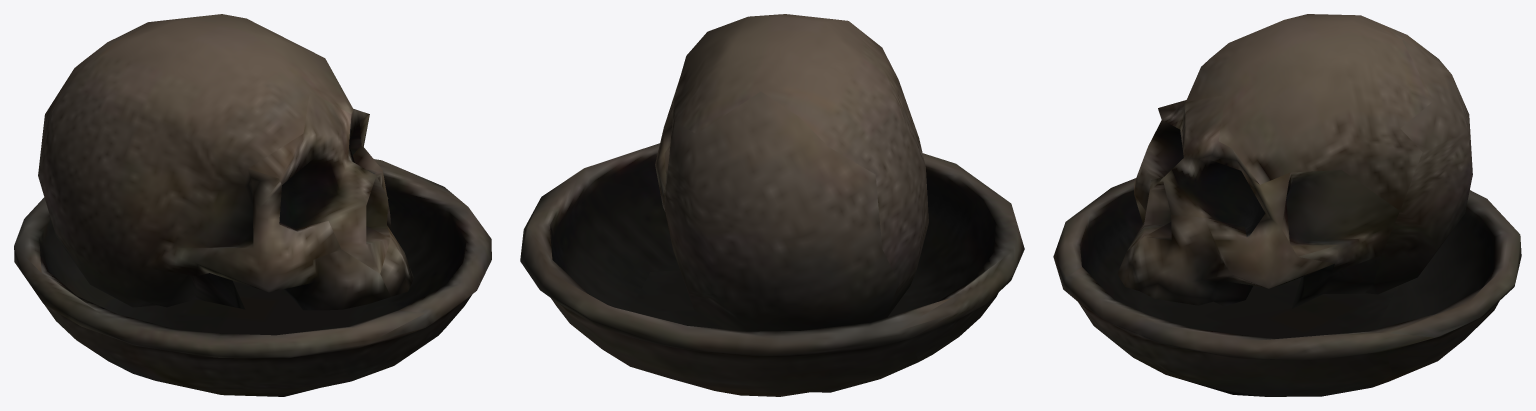
File: Skull_inBowl.fbx
3 views of the same model, side by side, from view 1: azimuth 30°, elevation 25°; view 2: azimuth 150°, elevation 25°; view 3: azimuth 270°, elevation 25° (orthographic). The views are drawn at different scales.
Parts seen in each view (by area): view 1: Skull_inBowl; view 2: Skull_inBowl; view 3: Skull_inBowl.
Boxes of the visible parts, box(x1,y1,x2,y2) form: Skull_inBowl: box(14, 14, 491, 396); Skull_inBowl: box(520, 14, 1024, 396); Skull_inBowl: box(1053, 14, 1521, 396).
Bounding box in the file's own units: 46.5 × 32.93 × 46.87.
Materials: 1 (1 with a texture image).
